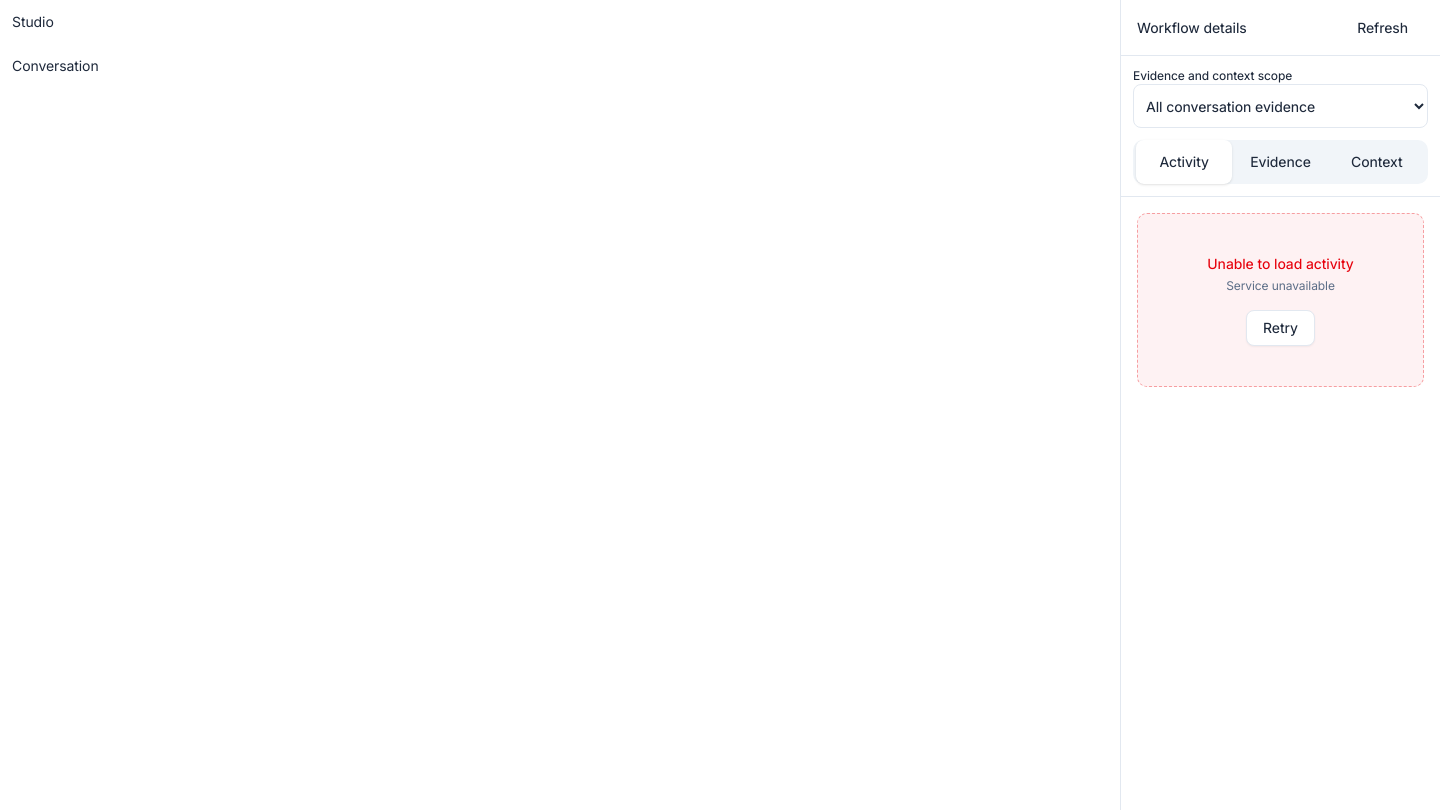
Scenario: Workflow rail › hides unavailable workflows and permits retry after a service failure
What coordinates should you click on to do the following:
click the button "Retry"
I would click on:
 (1280, 328)
Its box is [1246, 310, 1315, 346].
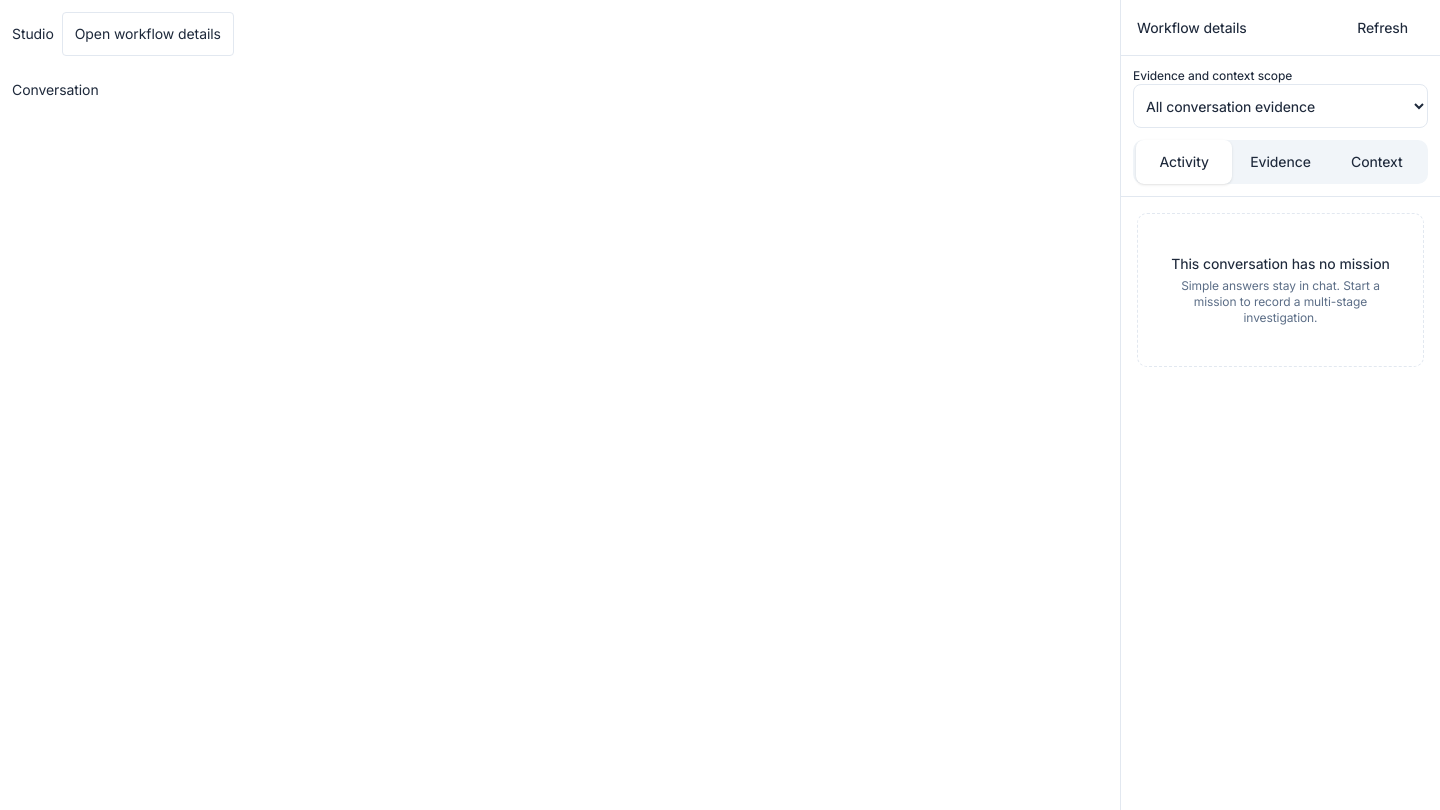
expect the text "This conversation has no mission" is shown: met, box [1171, 254, 1390, 274]
